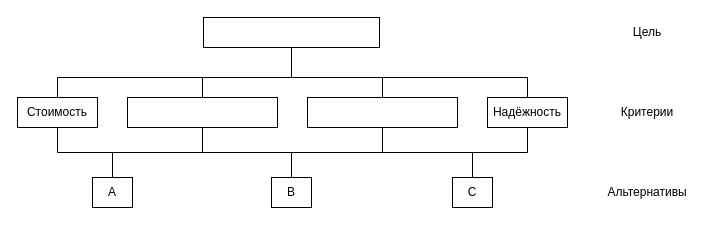
The diagram is 704 pixels wide and 225 high, and some of its shapes have lost their labels. The shapes that lost their labels are listed below. From the top down, each one's box as (x1, y1, x2, y2) in pixels, then its label:
(202, 16, 380, 48): Операционная система
(126, 96, 278, 128): Визуальный интерфейс
(306, 96, 458, 128): Разрядность ядра ОС
